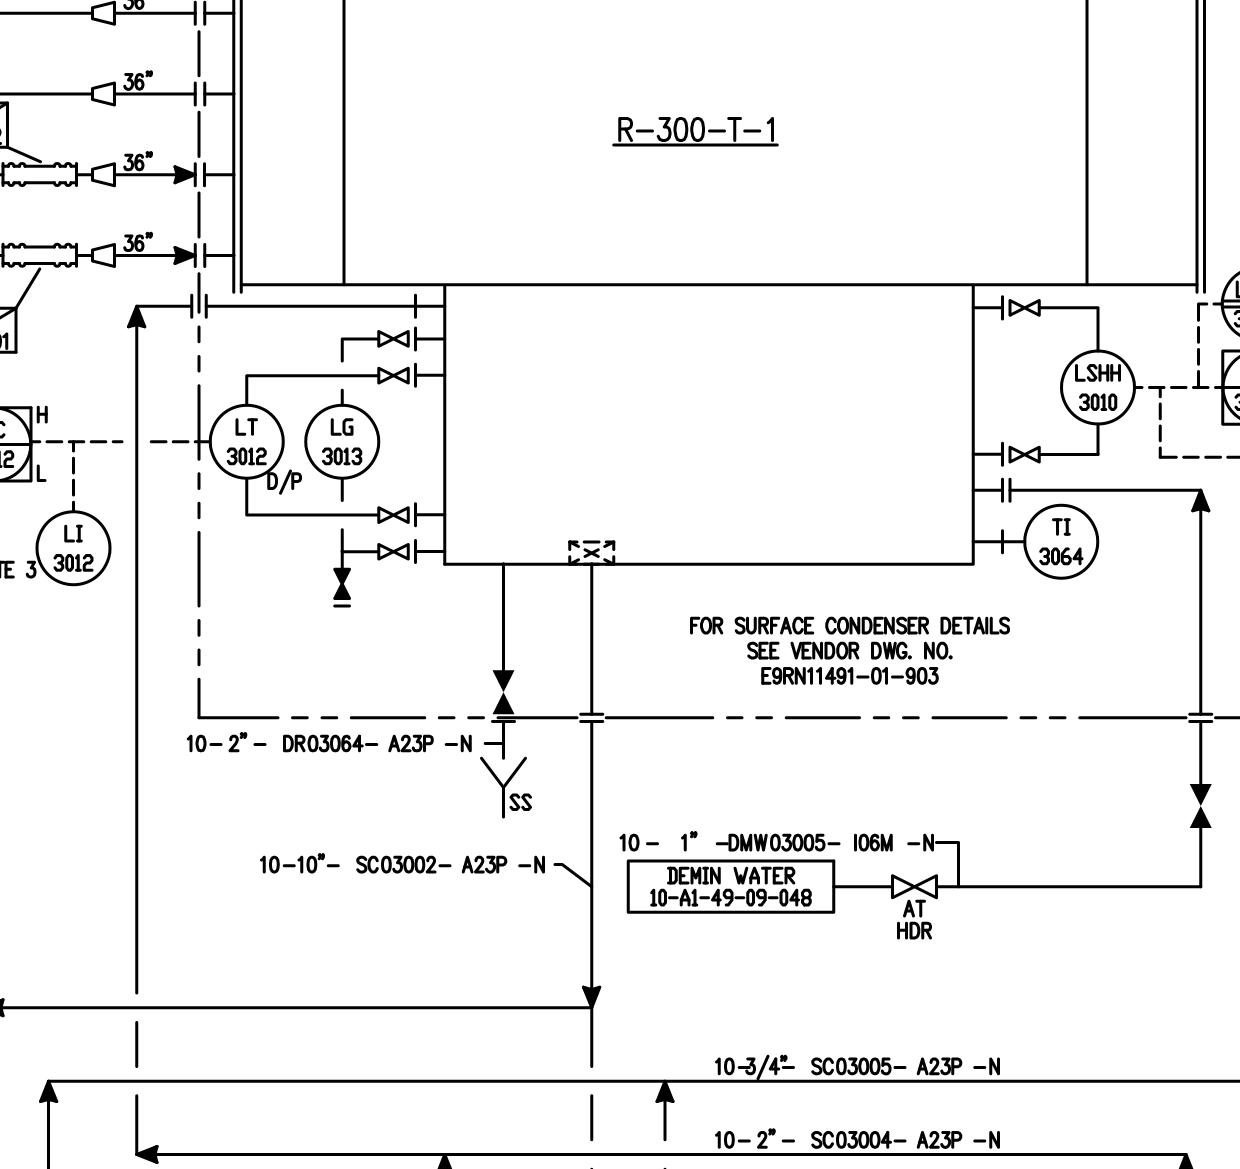Instrument Tag: (1055, 343, 1144, 428), (204, 399, 292, 485), (29, 506, 118, 591), (300, 400, 388, 485), (1018, 500, 1106, 584)
Line Number: (701, 1123, 1025, 1151), (615, 828, 939, 856), (692, 1051, 1016, 1079), (256, 850, 550, 878), (183, 728, 477, 756)
Reducer: (87, 240, 122, 276), (88, 158, 123, 194), (87, 77, 122, 113), (88, 1, 123, 36)
Valve: (885, 872, 943, 901), (1004, 442, 1053, 465), (1004, 296, 1053, 319), (371, 364, 420, 387), (372, 502, 421, 525), (371, 539, 420, 563), (369, 329, 418, 350)
